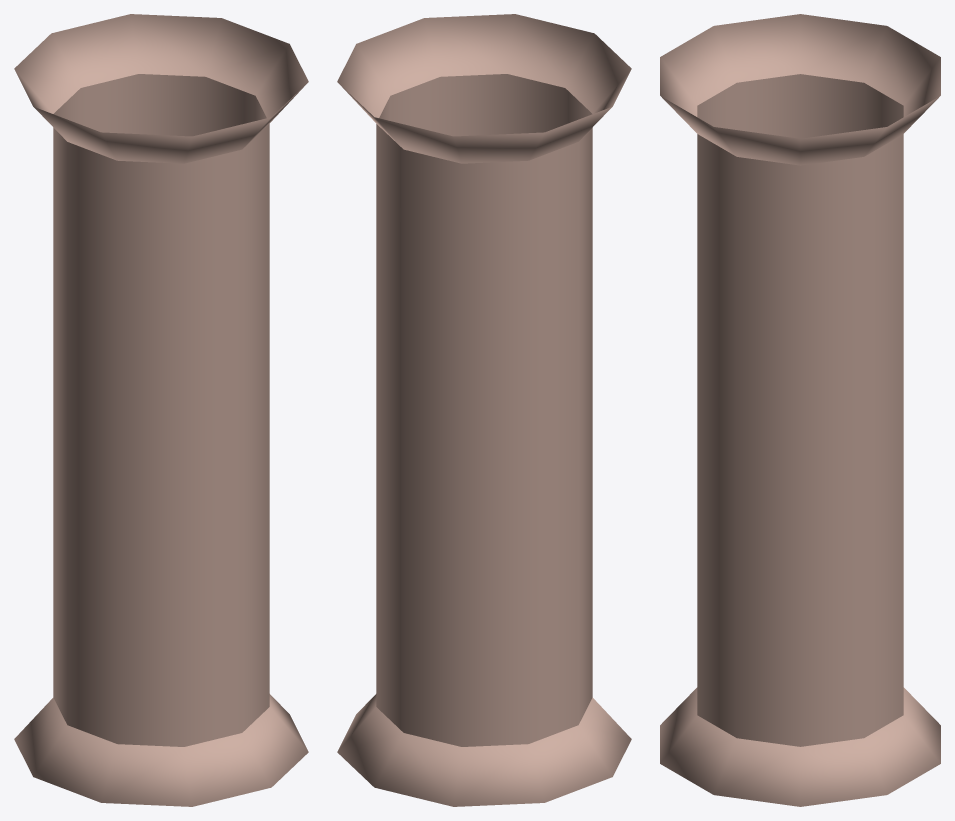
File: tuyau_droit_LOD.fbx
The picture shows the model from 3 angles, left to right: view 1: azimuth 30°, elevation 25°; view 2: azimuth 150°, elevation 25°; view 3: azimuth 270°, elevation 25°; orthographic projection.
Parts seen in each view (by area): view 1: Cylinder.021; view 2: Cylinder.021; view 3: Cylinder.021.
Part boxes in pixels (x1,y1,x2,y2): Cylinder.021: [14, 14, 308, 806]; Cylinder.021: [337, 14, 631, 806]; Cylinder.021: [660, 14, 940, 806].
Bounding box in the file's own units: 119 × 296 × 113.
